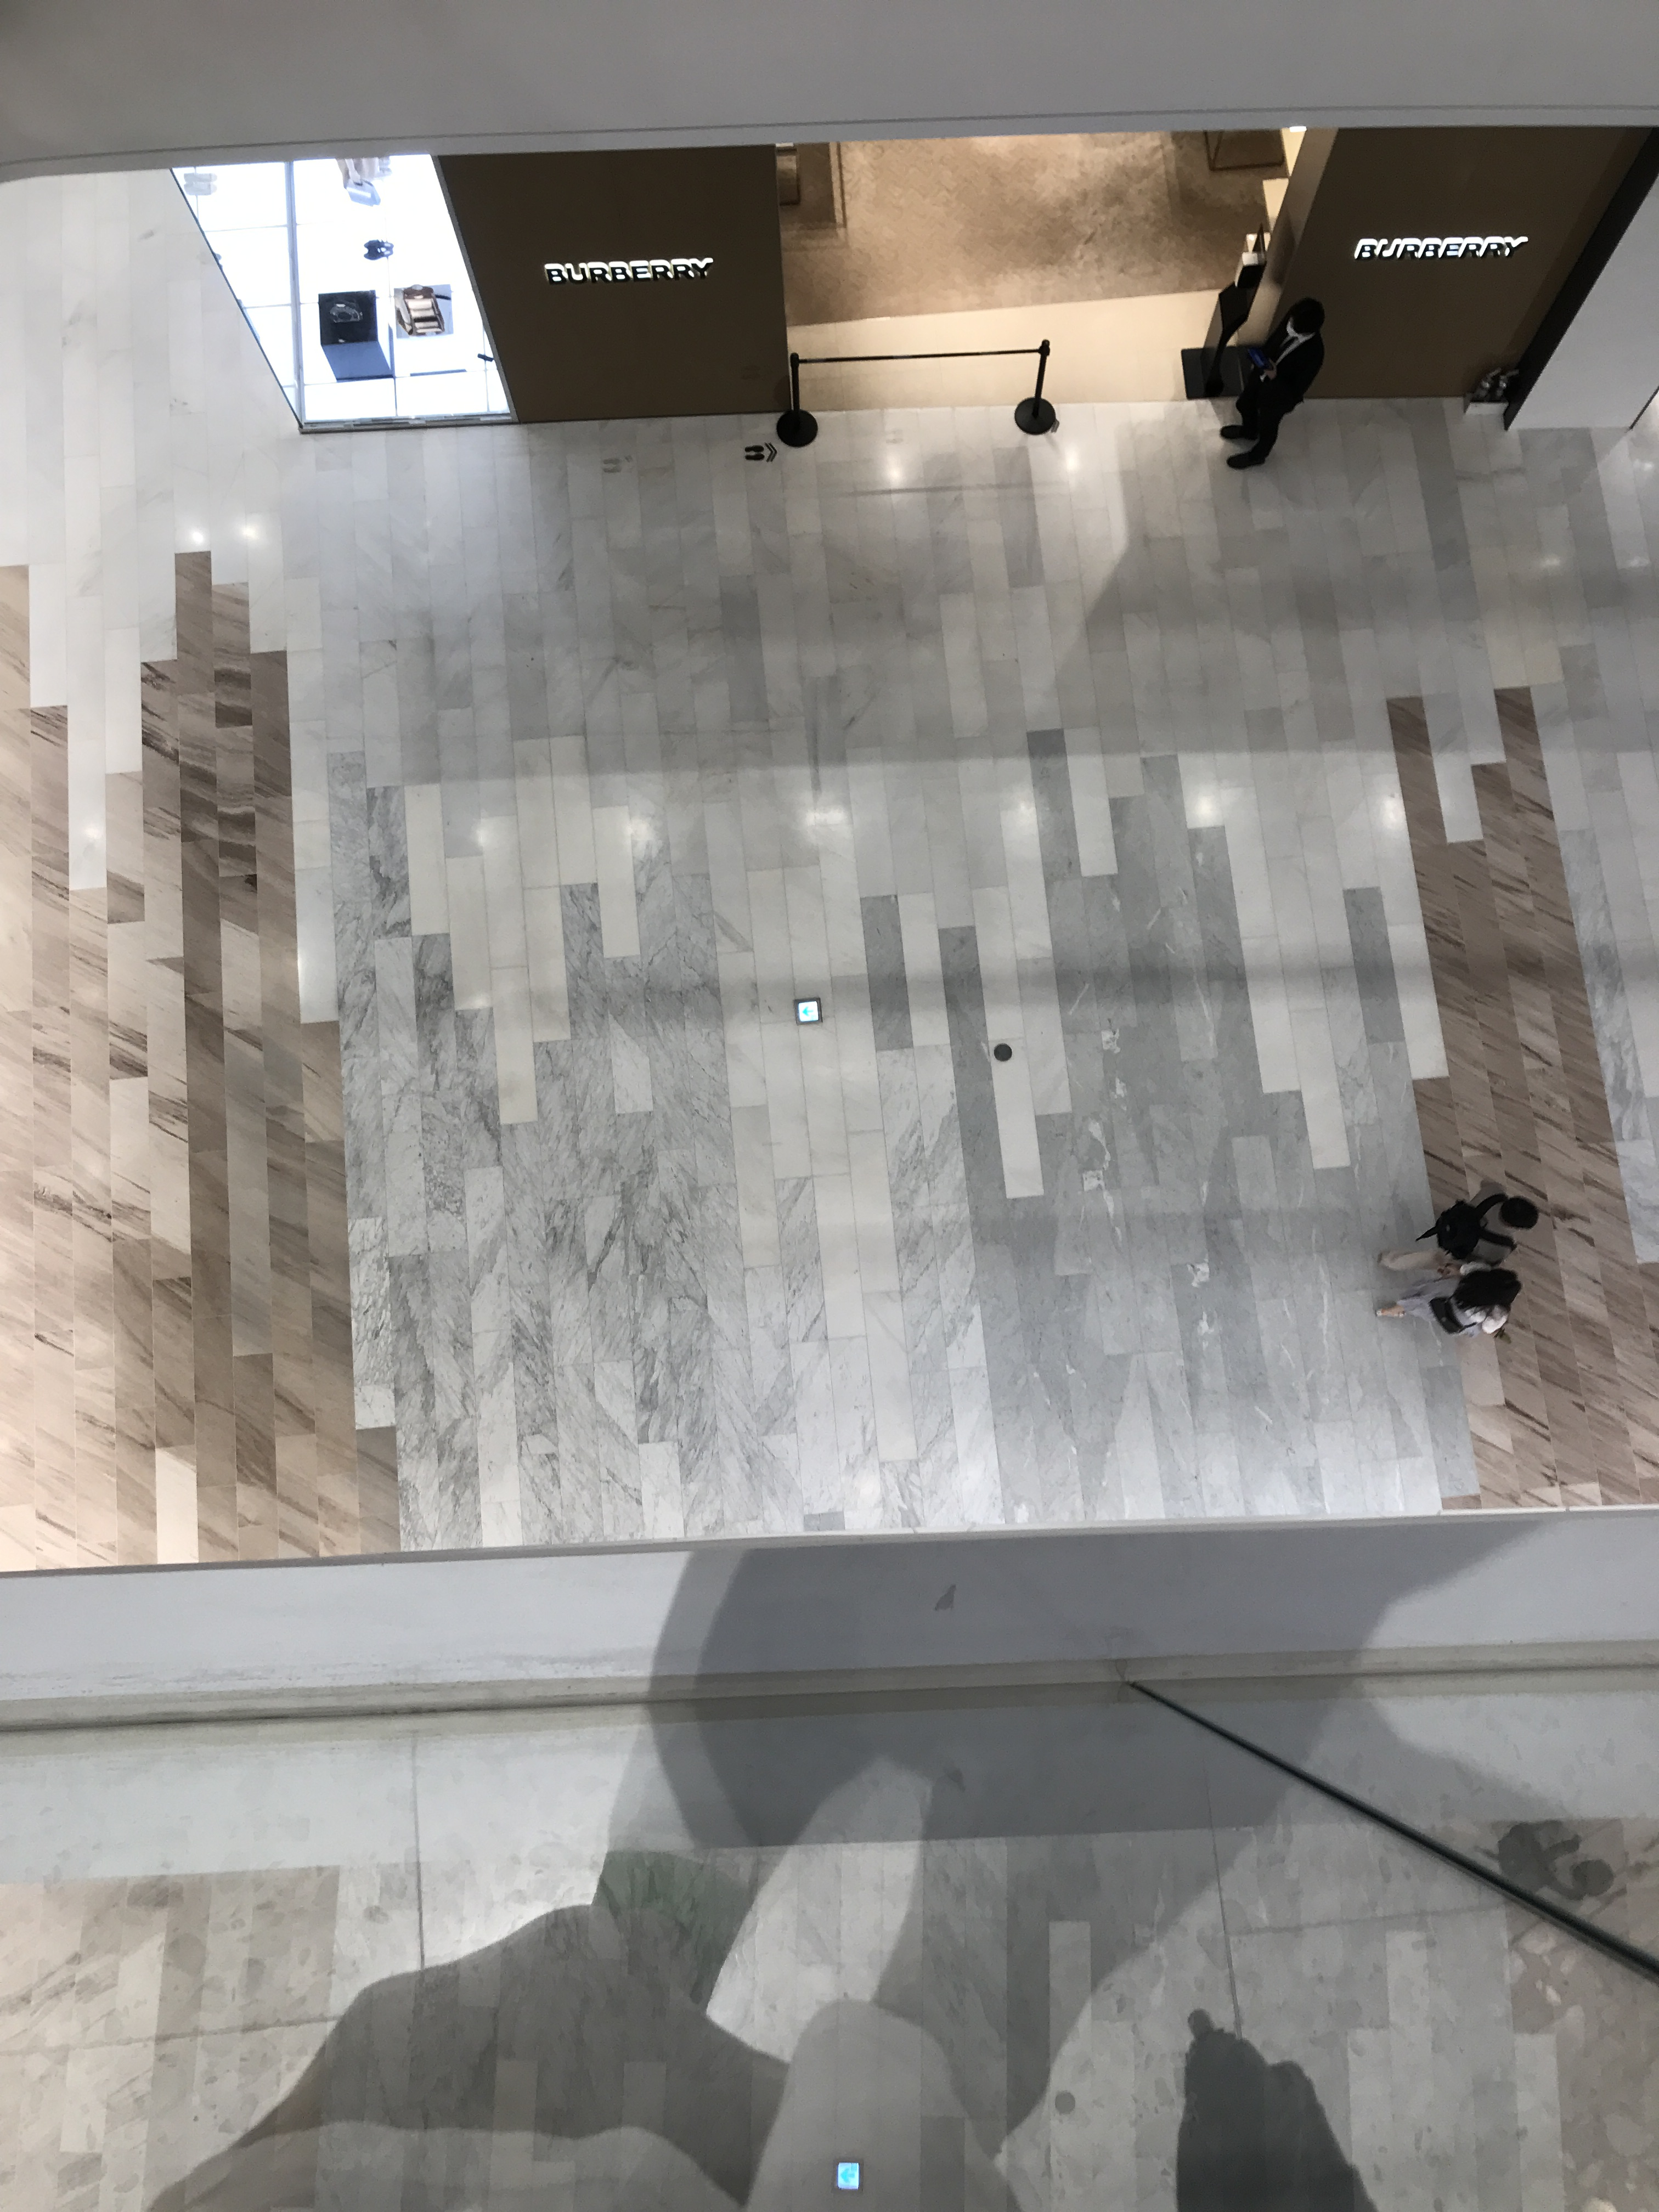person: (1219, 296, 1326, 472), (1380, 1178, 1539, 1274), (1373, 1262, 1525, 1340)
